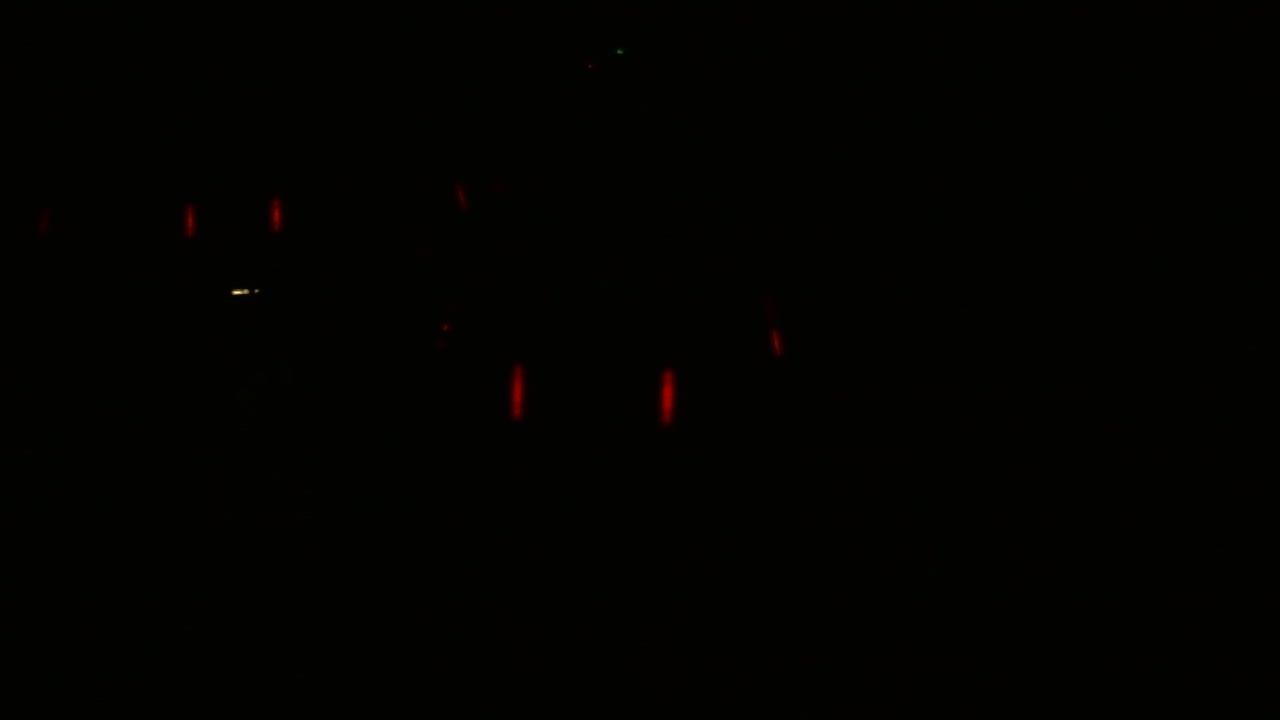pair1: (505, 353, 677, 431), (180, 189, 285, 237)
